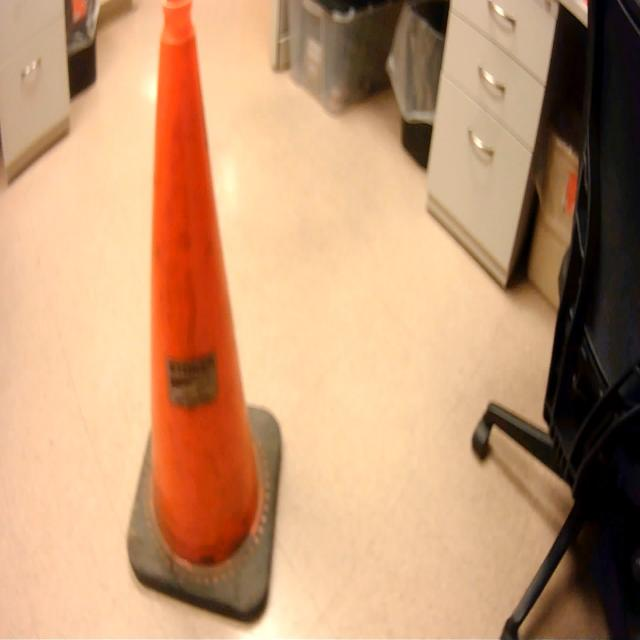traffic cone: (123, 1, 287, 630)
